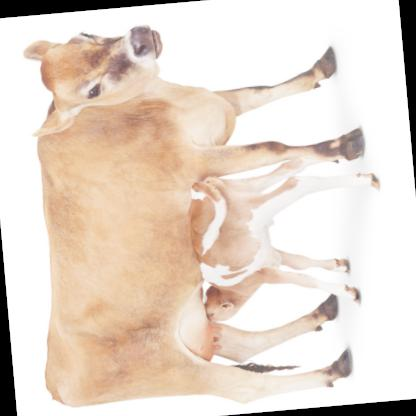Cow: (0, 6, 204, 415), (186, 136, 392, 344)
